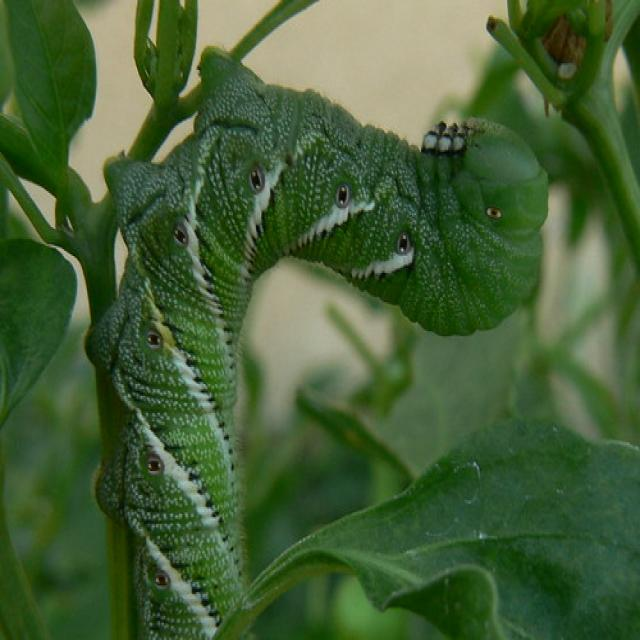caterpillar: (75, 32, 565, 640)
